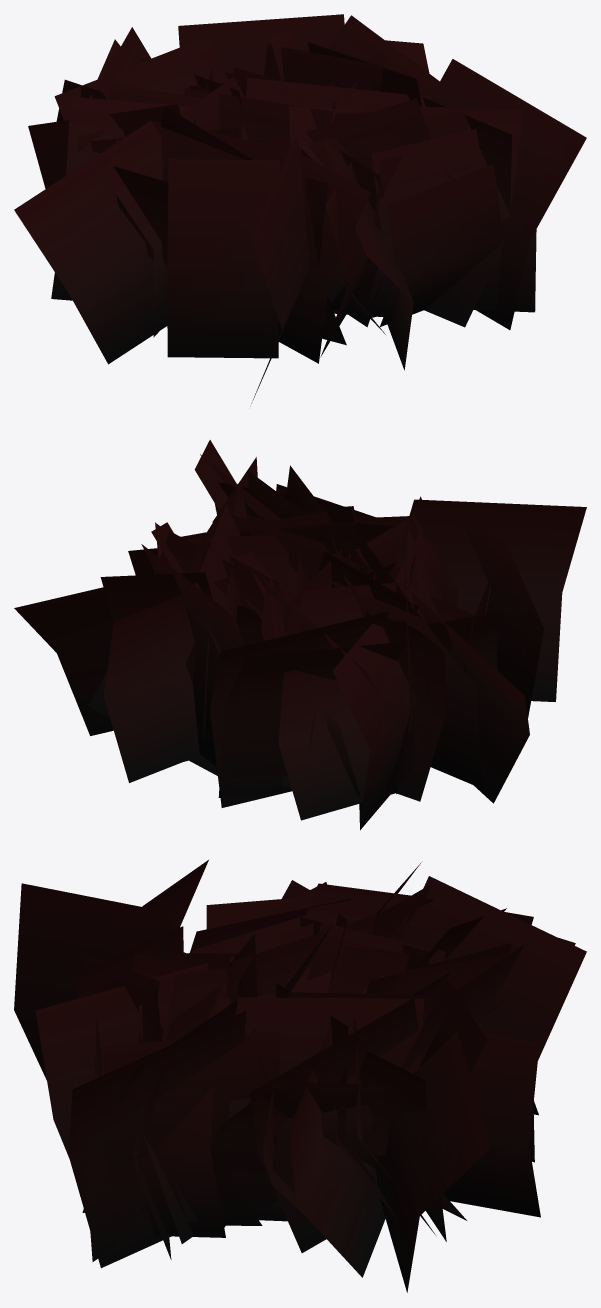
The model's file is Grass_short.fbx.
The picture shows the model from 3 angles, top to bottom: view 1: azimuth 30°, elevation 25°; view 2: azimuth 150°, elevation 25°; view 3: azimuth 270°, elevation 25°; orthographic projection. The views are drawn at different scales.
Parts seen in each view (by area): view 1: Grass_Short_LOD0; view 2: Grass_Short_LOD0; view 3: Grass_Short_LOD0.
Part boxes in pixels (bbox=[...]): Grass_Short_LOD0: bbox=[14, 14, 586, 406]; Grass_Short_LOD0: bbox=[14, 440, 586, 830]; Grass_Short_LOD0: bbox=[14, 860, 586, 1292].
Size of what is drawn, in the model's own units: 73.3 by 36.75 by 67.9.
